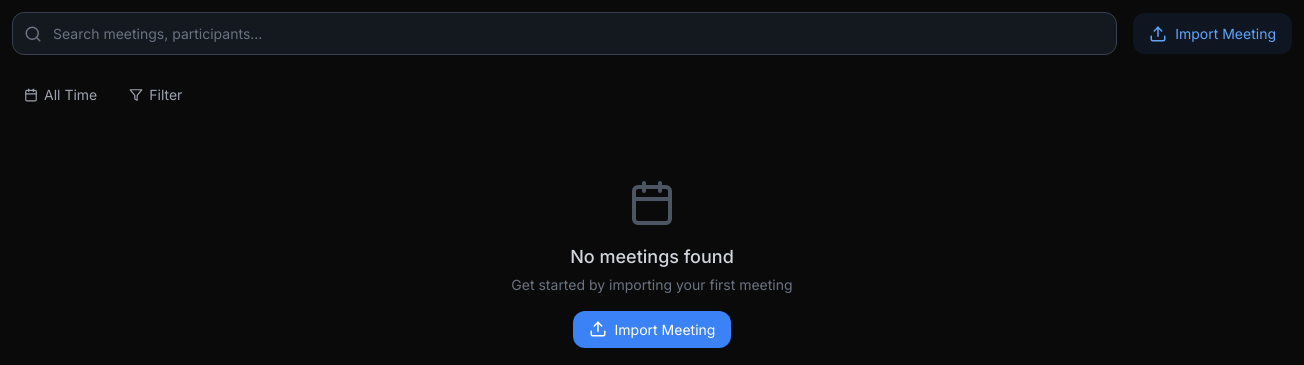
Test: MeetingList › shows empty state with search query
Type "NonExistent" into the field with placeholder "Search meetings, participants..." at x=565, y=34, box [12, 12, 1117, 55]
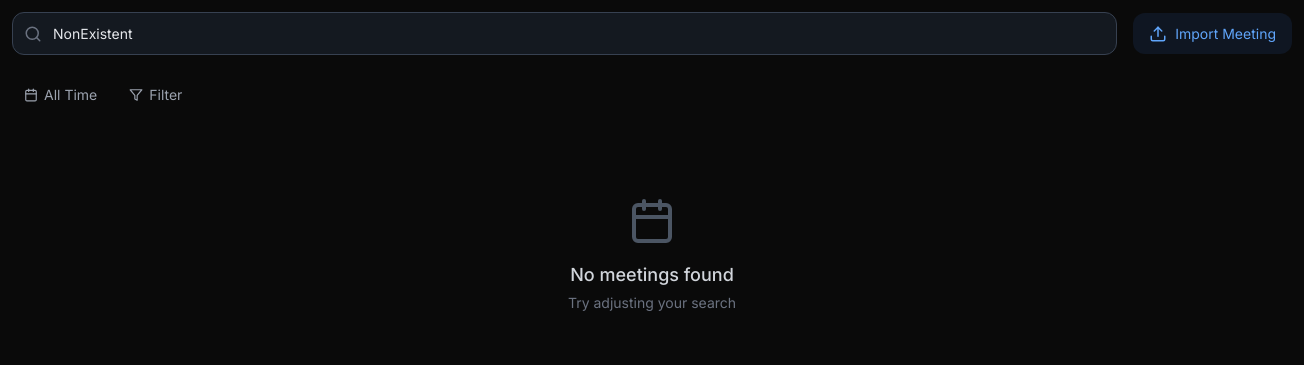
Expected: the text "No meetings found" is shown, [570, 261, 734, 289]
Now the text "Try adjusting your search" is shown, box [568, 293, 736, 313]
